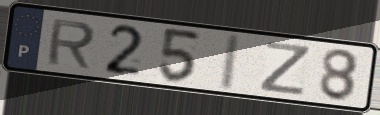2: (104, 23, 146, 80)
5: (156, 25, 204, 86)
8: (318, 46, 361, 103)
I: (216, 32, 244, 93)
R: (44, 17, 98, 71)
Z: (257, 39, 314, 98)
